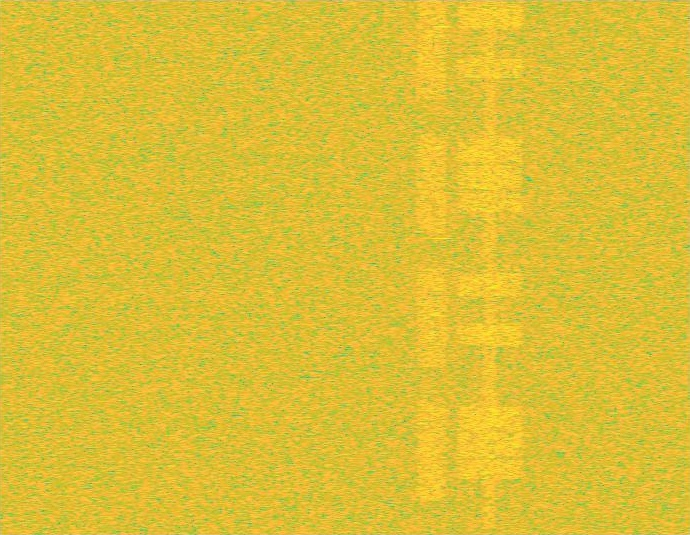5G: (415, 0, 449, 534)
DSSS: (482, 0, 498, 534)
LTE: (456, 0, 525, 534)
Radar: (435, 0, 448, 534)
